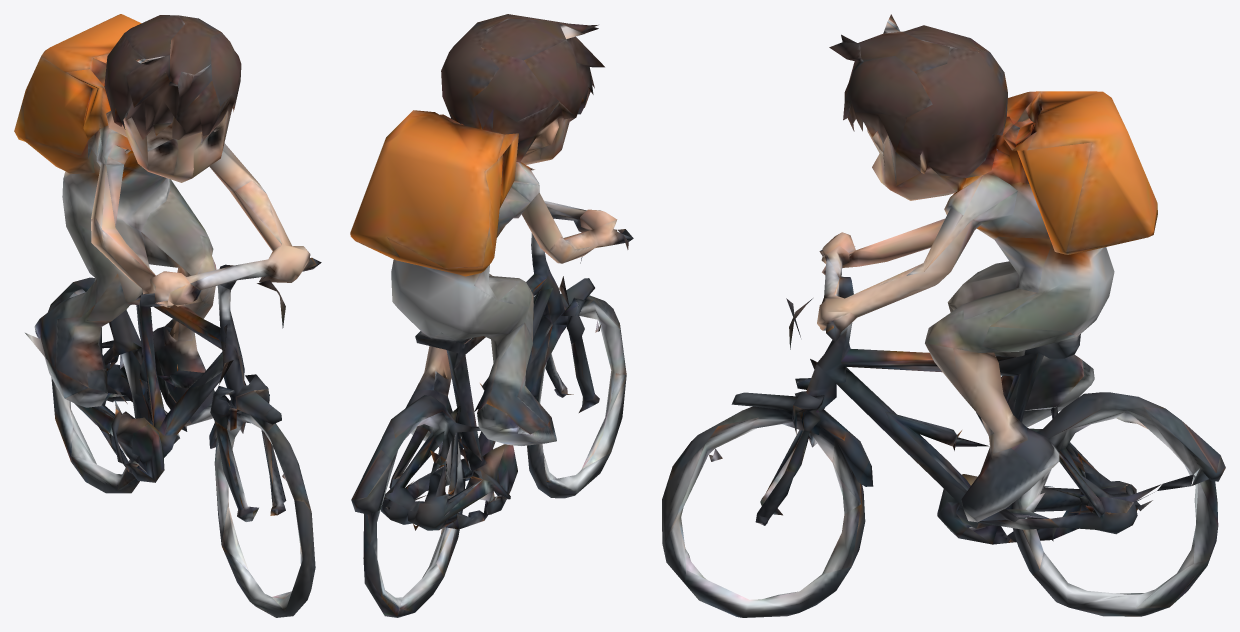
Rendered from obstacle-kid-bike.glb.
The picture shows the model from 3 angles, left to right: view 1: azimuth 30°, elevation 25°; view 2: azimuth 150°, elevation 25°; view 3: azimuth 270°, elevation 25°; orthographic projection. The views are drawn at different scales.
Bounding box in the file's own units: 0.7331 × 2 × 1.78.
Materials: 1 (1 with a texture image).
